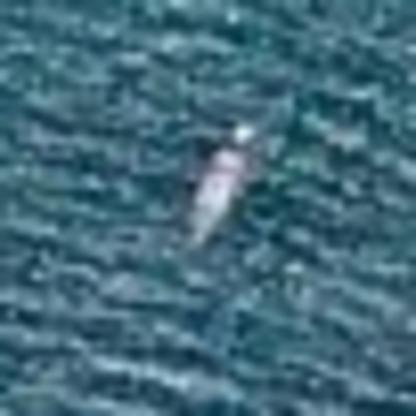ship: (169, 116, 264, 254)
